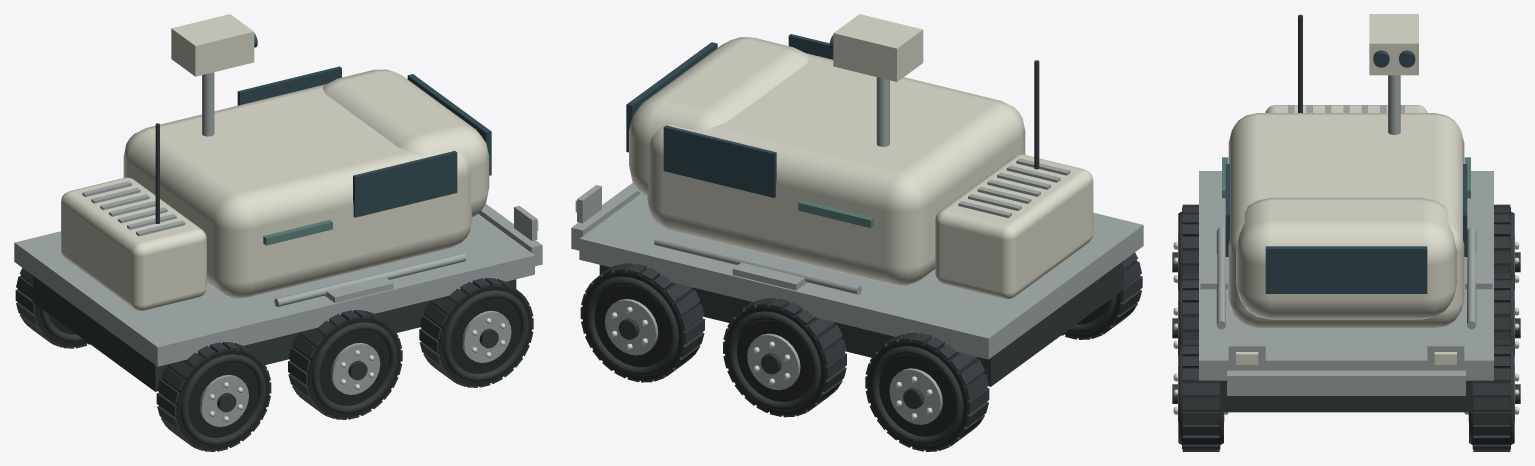
The model's file is scout-rover.glb.
3 renders of one model, left to right at view 1: azimuth 30°, elevation 25°; view 2: azimuth 150°, elevation 25°; view 3: azimuth 270°, elevation 25°, orthographic. The views are drawn at different scales.
Parts seen in each view (by area): view 1: ivory, metal, dark, tire, glass, teal; view 2: ivory, metal, dark, tire, glass, teal; view 3: ivory, metal, dark, glass, tire, teal.
Boxes of the visible parts, x1=… form: ivory: x1=61, y1=14, x2=538, y2=421; metal: x1=14, y1=72, x2=542, y2=426; dark: x1=15, y1=123, x2=533, y2=451; tire: x1=18, y1=275, x2=532, y2=449; glass: x1=237, y1=33, x2=491, y2=217; teal: x1=263, y1=220, x2=332, y2=245; ivory: x1=575, y1=14, x2=1093, y2=419; metal: x1=571, y1=77, x2=1143, y2=424; dark: x1=580, y1=60, x2=1142, y2=451; tire: x1=582, y1=260, x2=1140, y2=449; glass: x1=626, y1=34, x2=833, y2=197; teal: x1=798, y1=200, x2=873, y2=228; ivory: x1=1173, y1=14, x2=1519, y2=414; metal: x1=1178, y1=75, x2=1514, y2=421; dark: x1=1172, y1=14, x2=1520, y2=451; glass: x1=1225, y1=50, x2=1467, y2=293; tire: x1=1182, y1=207, x2=1510, y2=449; teal: x1=1222, y1=157, x2=1470, y2=198.
Size of the model in its own units: 2.58 by 1.99 by 1.89.
